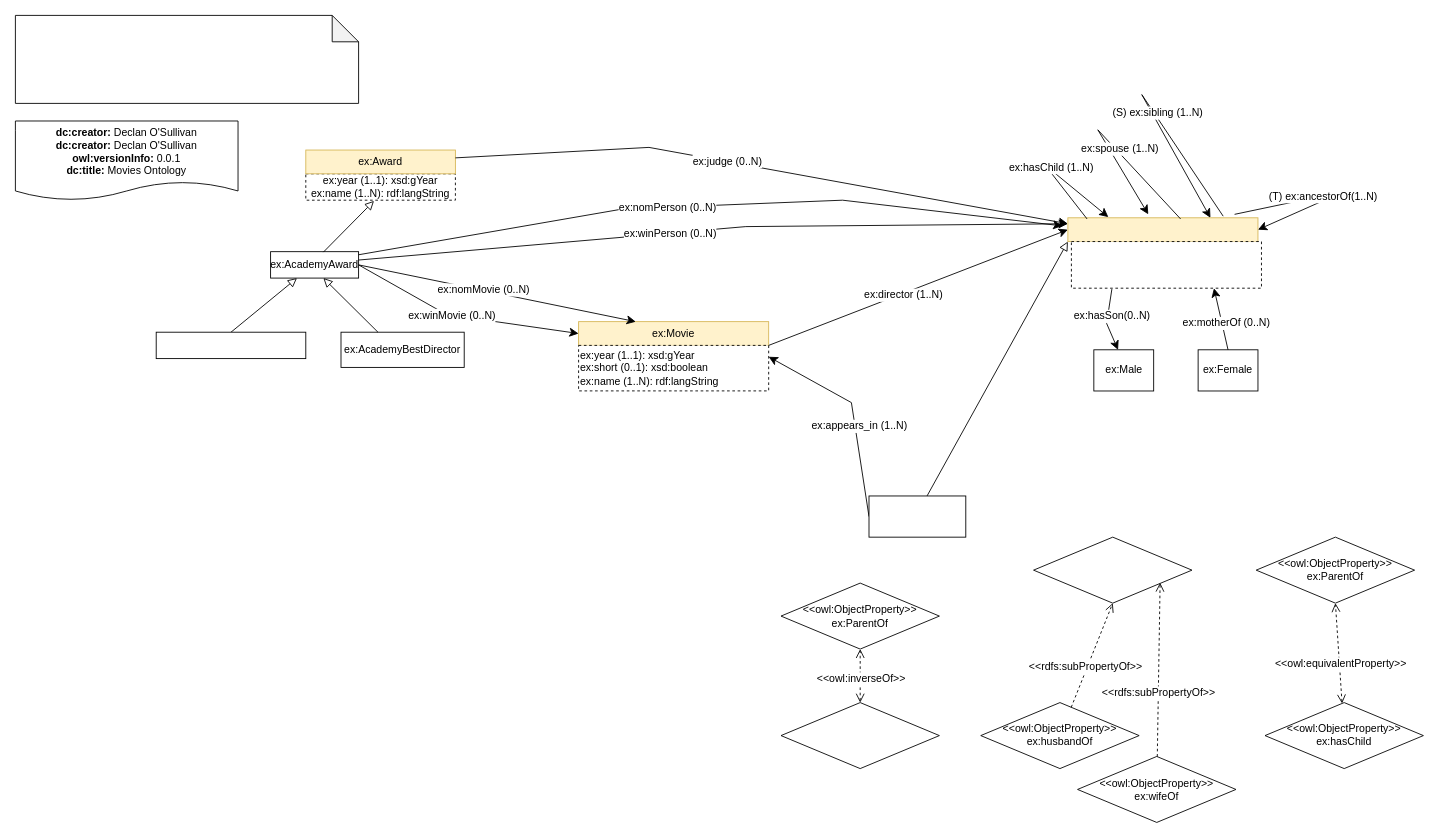
The diagram is 1439 pixels wide and 839 high, and some of its shapes have lost their labels. Here are the shapes that lost their labels. From the top down, the centre of each, then its label:
At (x=187, y=59): "@base: http://www.example.com/# ex : http://www.example.com/#".
At (x=1162, y=229): "ex:Person".
At (x=1166, y=264): "ex:name (1..N): rdf:langString ex:dob (1..1): xsd:date".
At (x=230, y=345): "ex:AcademyBestPicture".
At (x=917, y=516): "ex:Character".
At (x=1112, y=569): "<<owl:ObjectProperty>> ex:spouse".
At (x=859, y=735): "<<owl:ObjectProperty>> ex:childOf".
